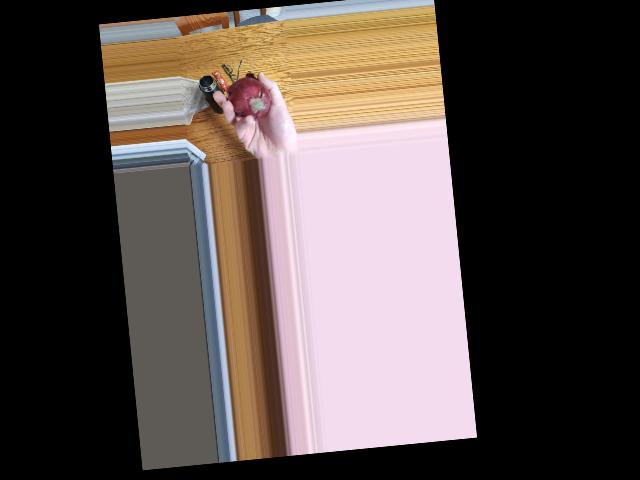onion: (233, 77, 272, 121)
